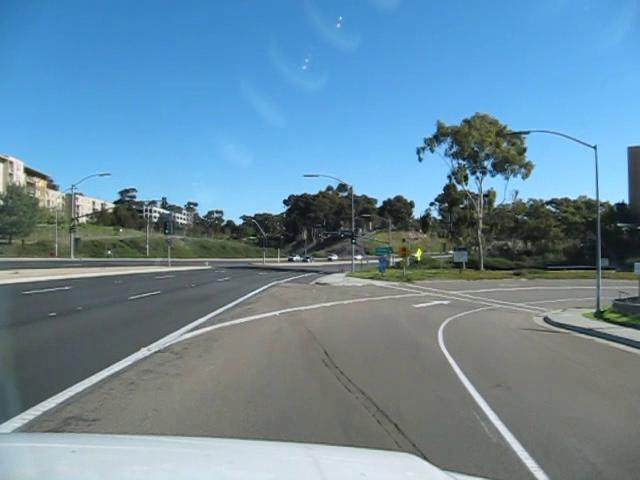signalAhead: (395, 243, 412, 260)
